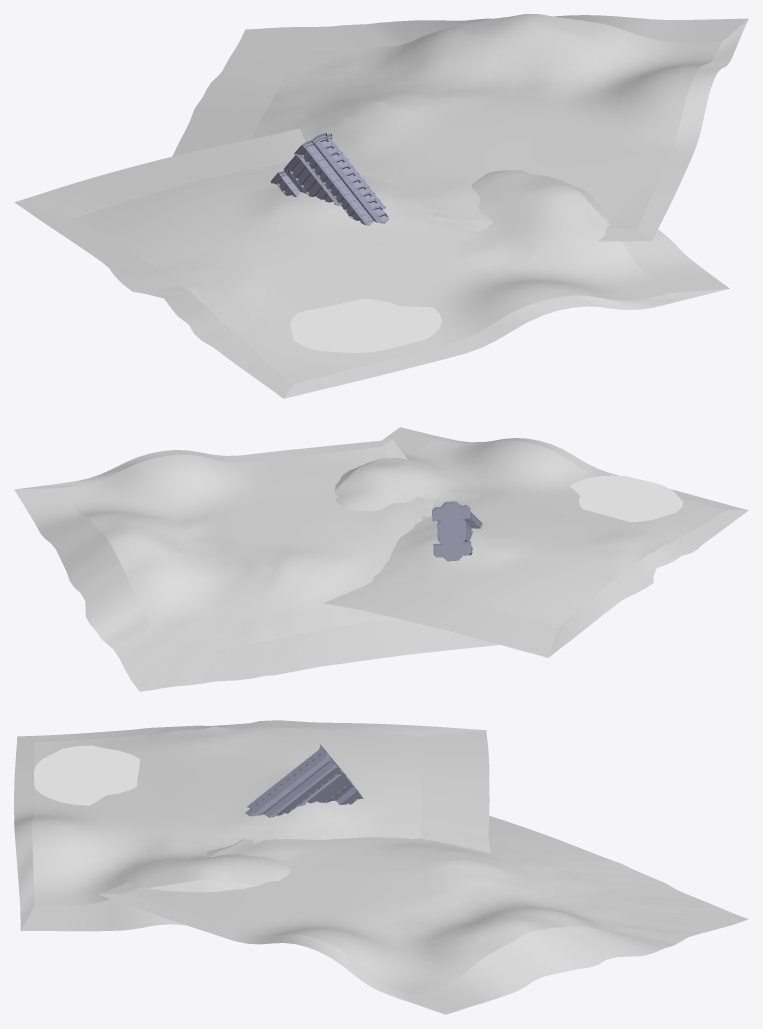
Rendered from Snowy Landscape w- Ice plus building.fbx.
3 renders of one model, top to bottom at view 1: azimuth 30°, elevation 25°; view 2: azimuth 150°, elevation 25°; view 3: azimuth 270°, elevation 25°, orthographic. The views are drawn at different scales.
Parts seen in each view (by area): view 1: pPlane1, pPlane2, pDisc1, pasted__polySurface1; view 2: pPlane2, pPlane1, pDisc1, pasted__polySurface1; view 3: pPlane1, pPlane2, pDisc1, pasted__polySurface1.
Part boxes in pixels (<box>): pPlane1: <box>14,129,729,398</box>; pPlane2: <box>172,14,748,241</box>; pDisc1: <box>290,298,441,352</box>; pasted__polySurface1: <box>270,132,389,225</box>; pPlane2: <box>14,439,499,691</box>; pPlane1: <box>323,427,748,657</box>; pDisc1: <box>569,475,682,522</box>; pasted__polySurface1: <box>432,501,482,561</box>; pPlane1: <box>14,720,490,931</box>; pPlane2: <box>98,816,748,1014</box>; pDisc1: <box>33,745,139,805</box>; pasted__polySurface1: <box>245,744,363,817</box>.
Size of the model in its own units: 261 by 56.53 by 260.
